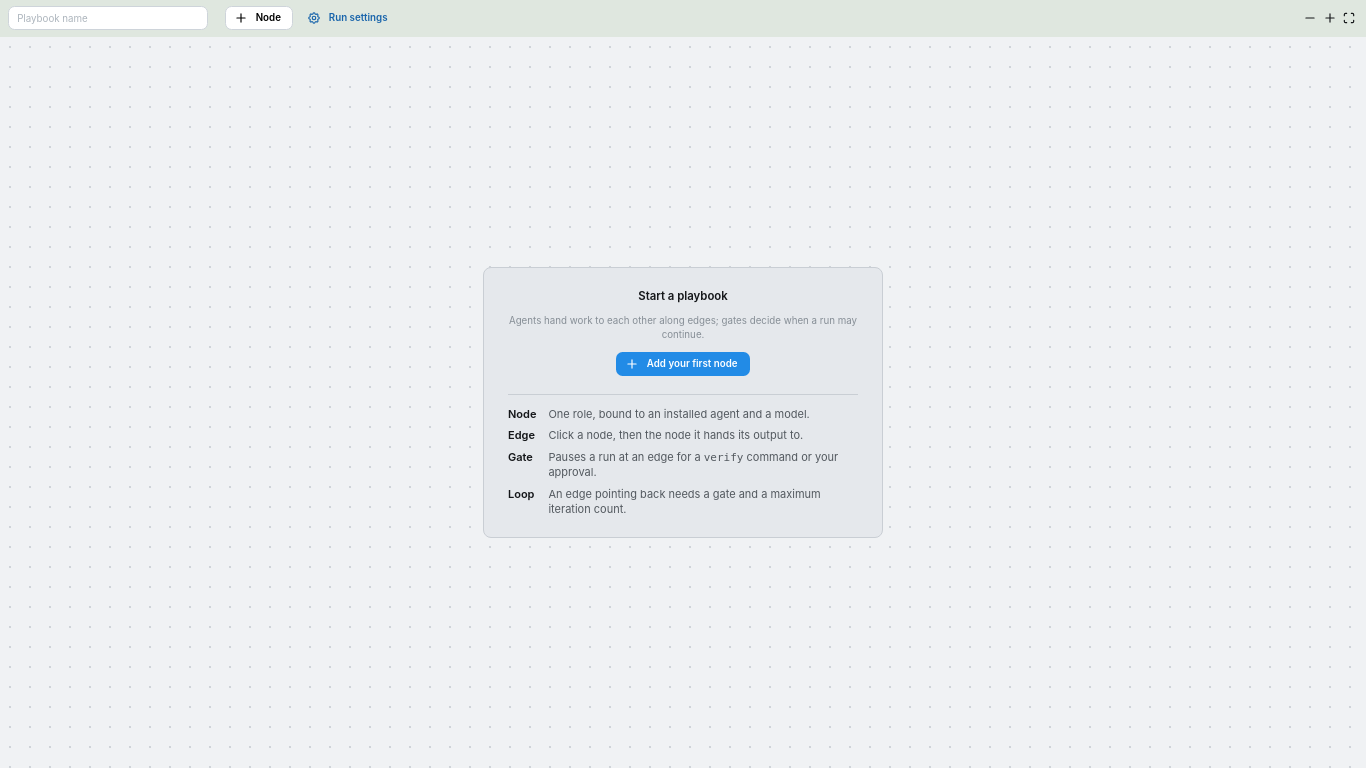
Test: ChainCanvas — keyboard-operable nodes › gives each node an accessible name and opens its editor on Enter
Click the button "Node" at x=259, y=18, box x1=225 y1=6 x2=293 y2=30
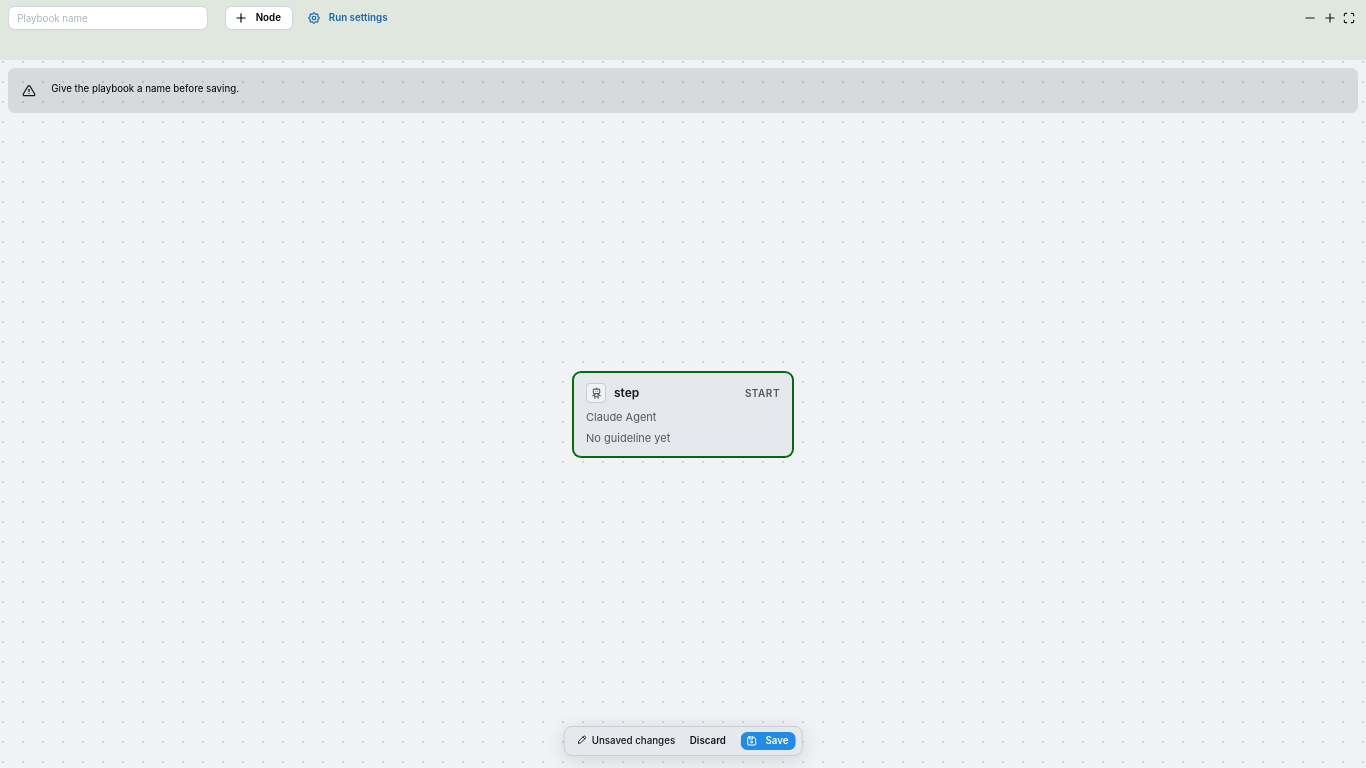
Press Escape
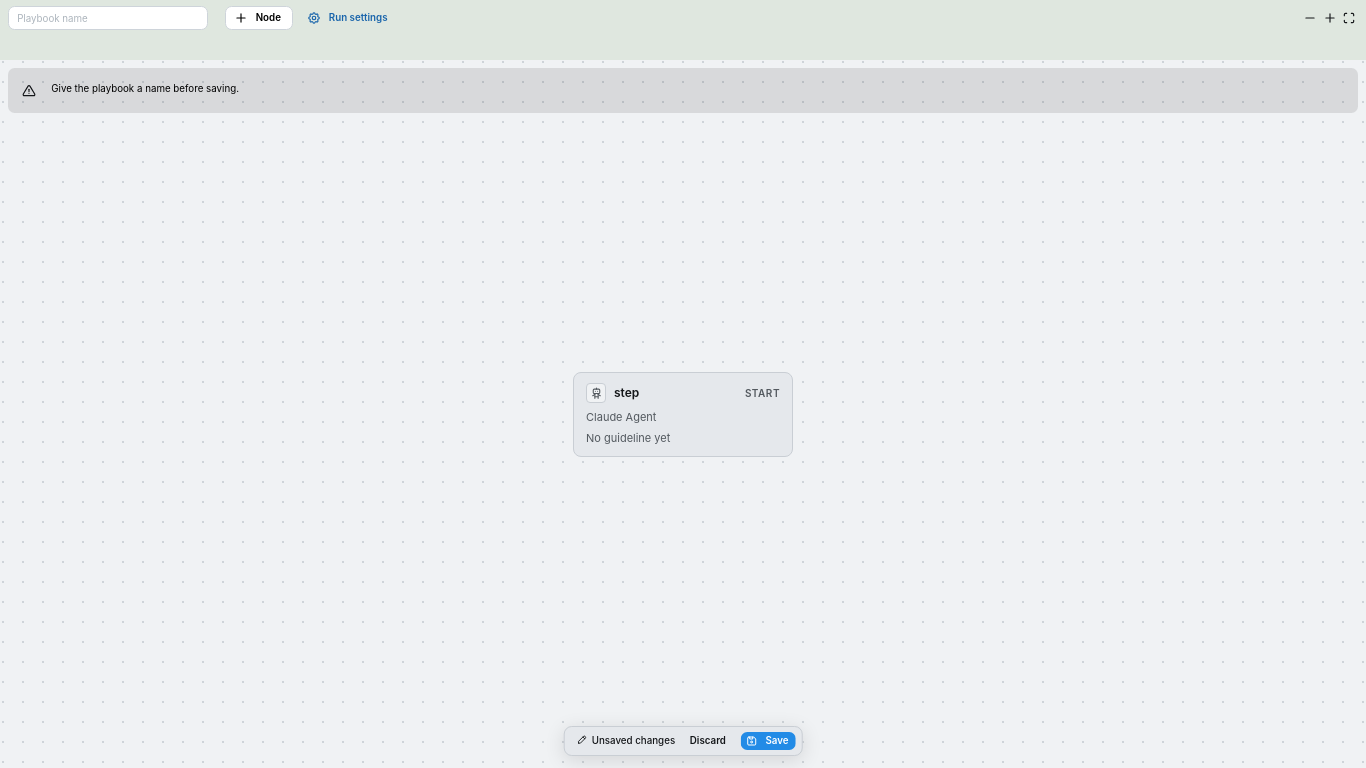
Press Enter in the button with aria-label "Node step, Claude Agent", box x1=573 y1=372 x2=793 y2=457
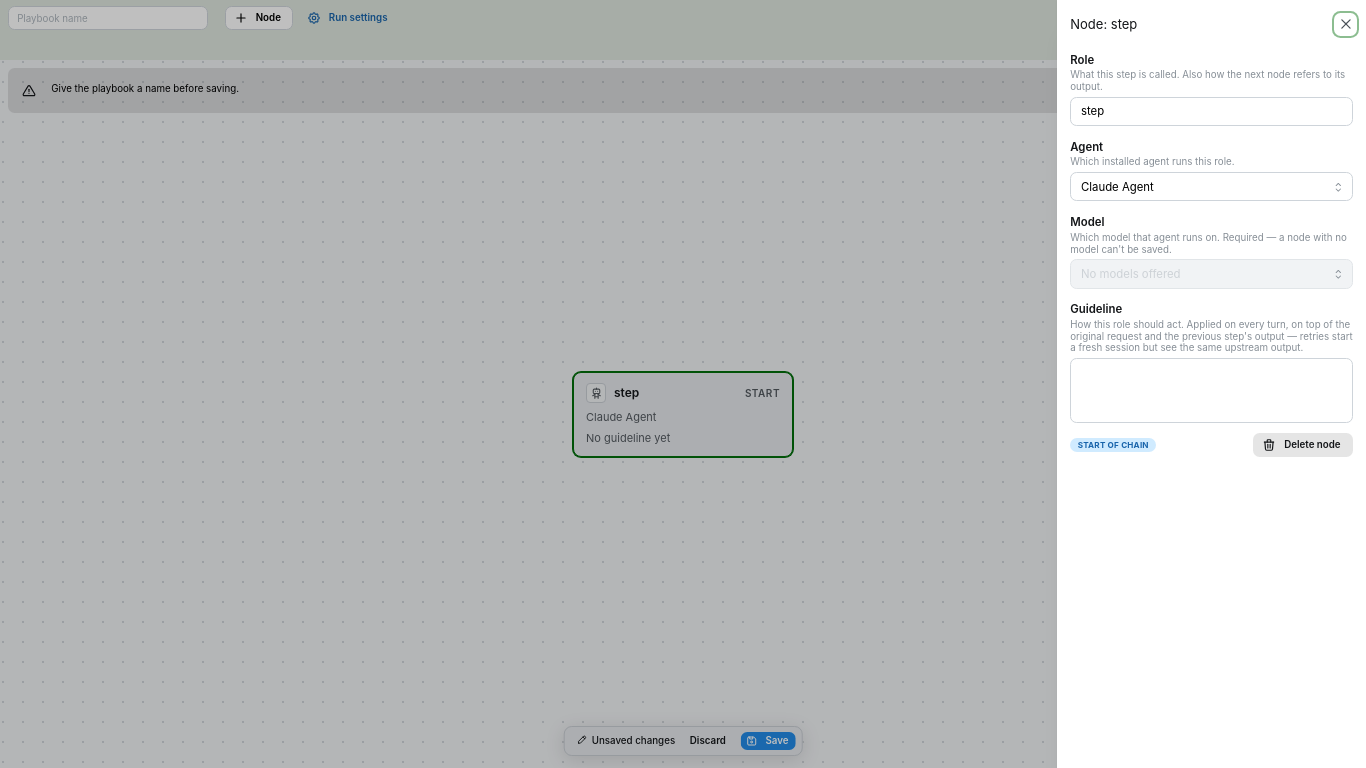
Expected: the field with test id "node-role" is shown, x1=1070 y1=97 x2=1353 y2=126
